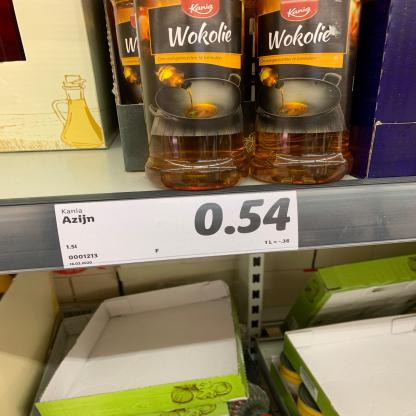prtg: (56, 191, 300, 269)
